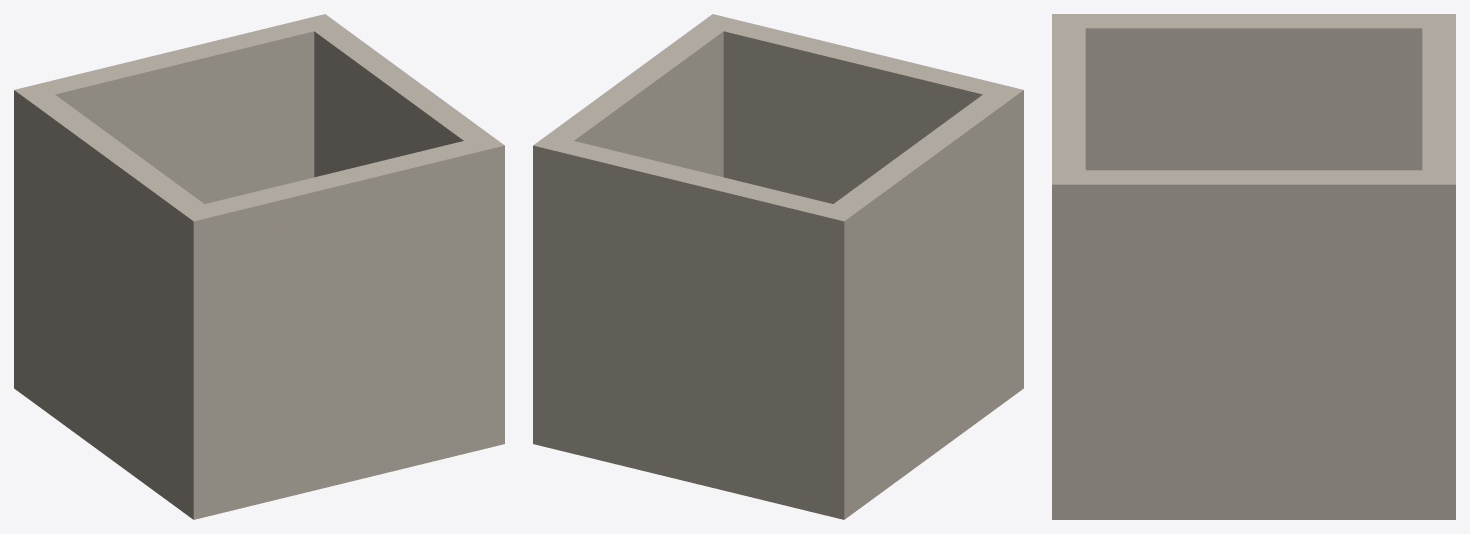
File: gallery_shaft.gltf
3 renders of one model, left to right at view 1: azimuth 30°, elevation 25°; view 2: azimuth 150°, elevation 25°; view 3: azimuth 270°, elevation 25°, orthographic. The views are drawn at different scales.
Parts seen in each view (by area): view 1: Skylight shaft; view 2: Skylight shaft; view 3: Skylight shaft.
Boxes of the visible parts, x1=… form: Skylight shaft: x1=14, y1=14, x2=504, y2=519; Skylight shaft: x1=533, y1=14, x2=1023, y2=519; Skylight shaft: x1=1052, y1=14, x2=1455, y2=519.
Size of the model in its own units: 6 by 5.5 by 6.
